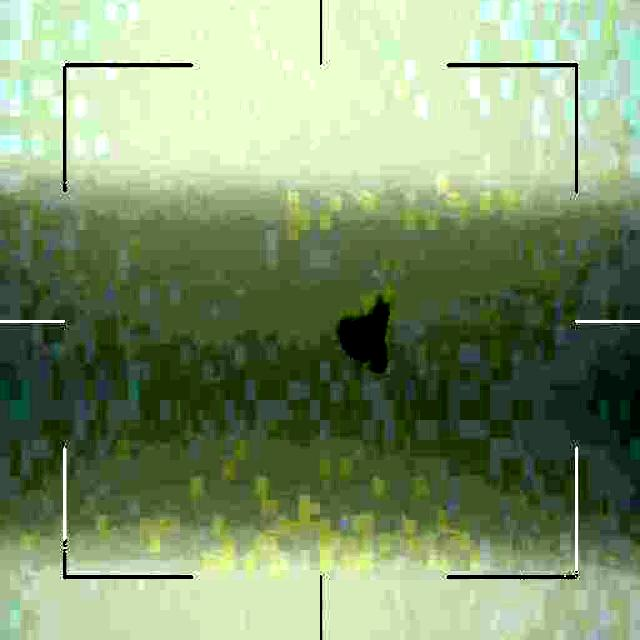bird: (334, 301, 398, 385)
